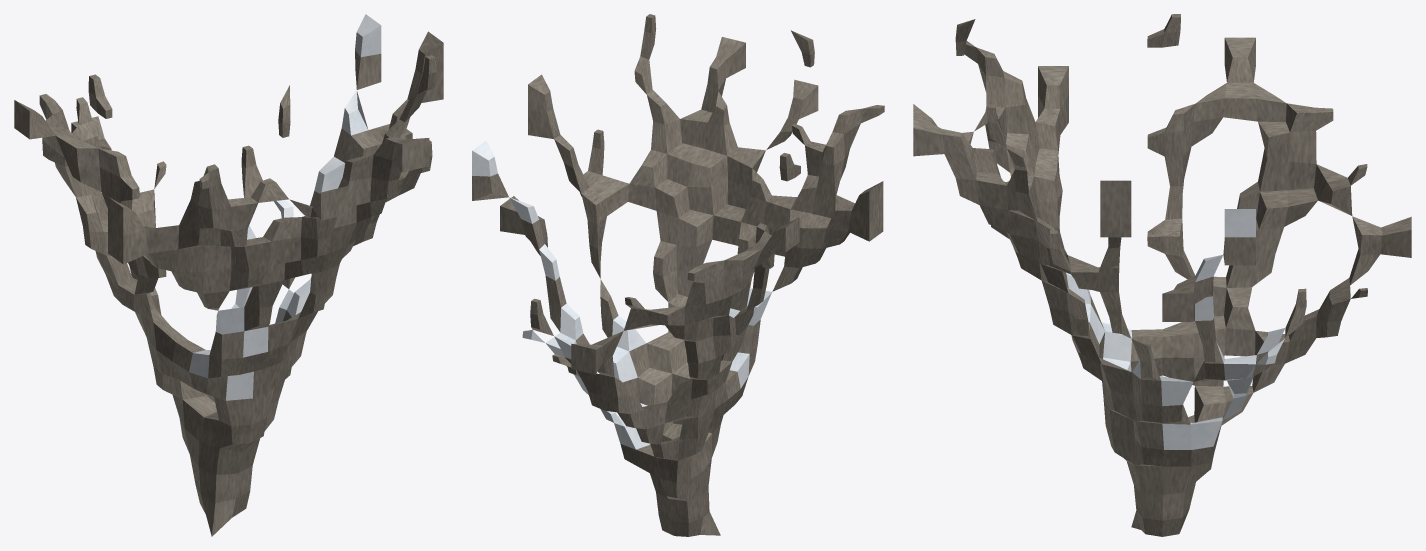
File: shrub_dead_snow.glb
3 renders of one model, left to right at view 1: azimuth 30°, elevation 25°; view 2: azimuth 150°, elevation 25°; view 3: azimuth 270°, elevation 25°, orthographic. The views are drawn at different scales.
Parts seen in each view (by area): view 1: wilds_shrub_dead_snow; view 2: wilds_shrub_dead_snow; view 3: wilds_shrub_dead_snow.
Part boxes in pixels (bbox=[...]): wilds_shrub_dead_snow: bbox=[14, 14, 443, 536]; wilds_shrub_dead_snow: bbox=[472, 14, 884, 536]; wilds_shrub_dead_snow: bbox=[913, 14, 1411, 536].
Size of the model in its own units: 0.8125 by 1.12 by 1.
Materials: 1 (1 with a texture image).
